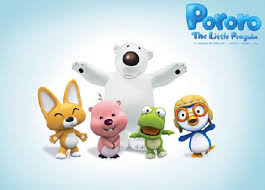Loopy: (87, 94, 128, 160)
Pororo: (171, 94, 223, 157)
